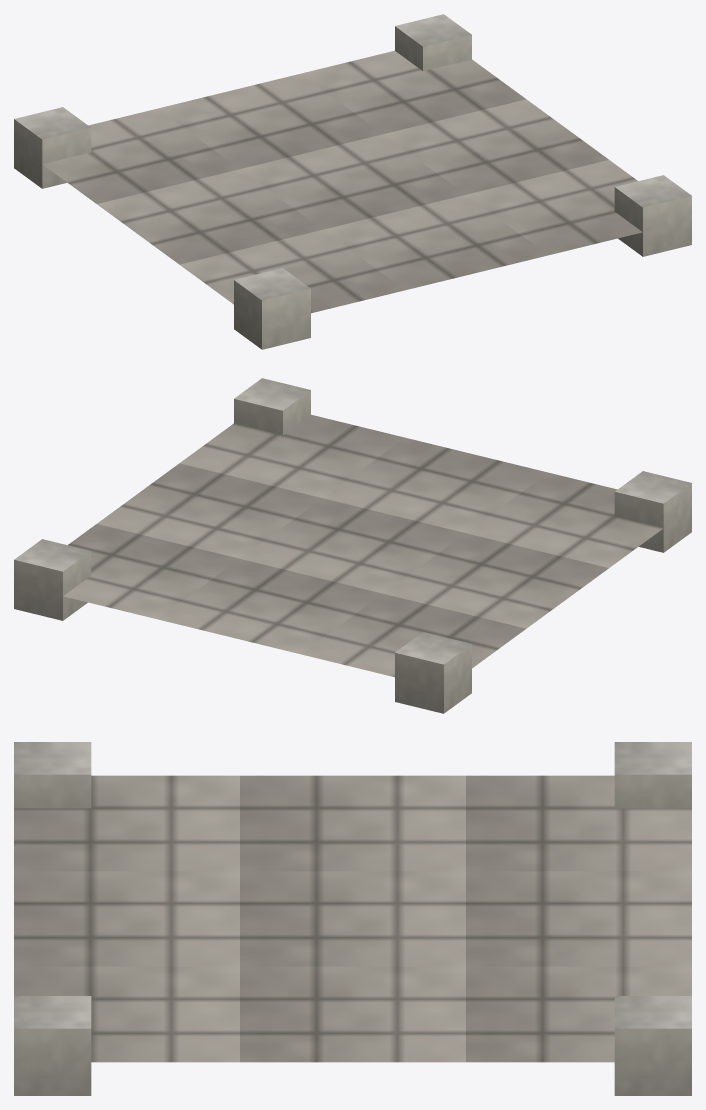
The model's file is walk_path_cross_01.glb.
The picture shows the model from 3 angles, top to bottom: view 1: azimuth 30°, elevation 25°; view 2: azimuth 150°, elevation 25°; view 3: azimuth 270°, elevation 25°; orthographic projection. The views are drawn at different scales.
Visible parts, largest first — view 1: walk_path_cross_01; view 2: walk_path_cross_01; view 3: walk_path_cross_01.
Part boxes in pixels (<box>): walk_path_cross_01: <box>14,14,691,349</box>; walk_path_cross_01: <box>14,378,691,713</box>; walk_path_cross_01: <box>14,742,691,1095</box>.
Bounding box in the file's own units: 2.19 × 0.24 × 2.19.
1 material, 1 textured.
